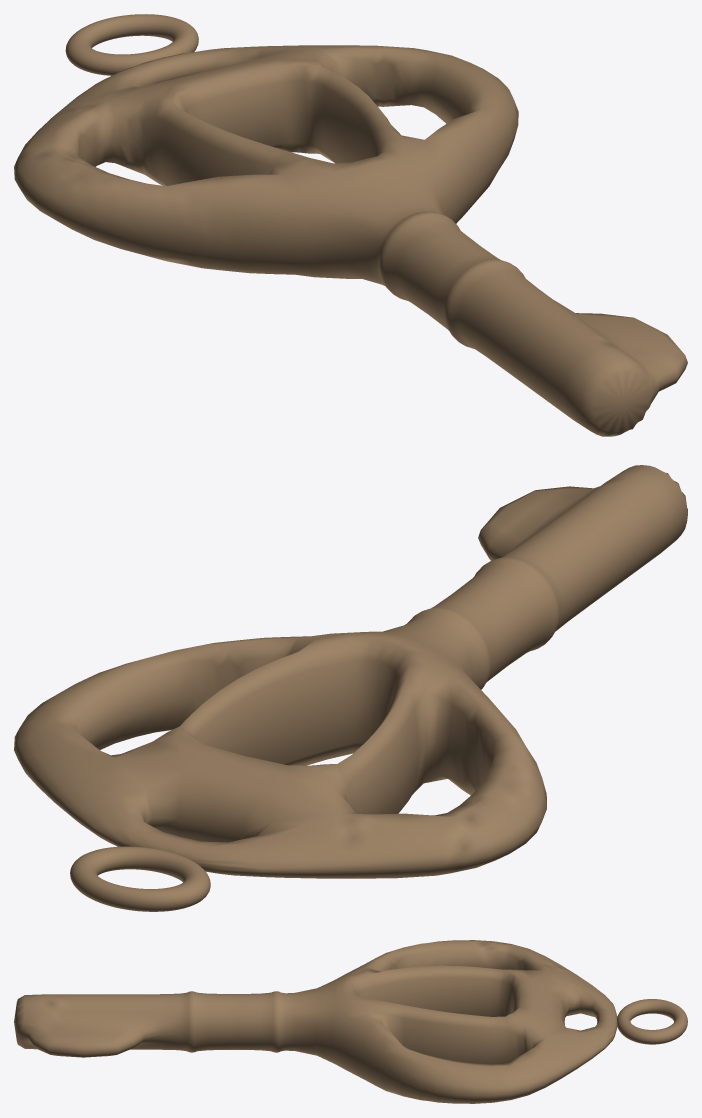
The model's file is Key.fbx.
3 renders of one model, top to bottom at view 1: azimuth 30°, elevation 25°; view 2: azimuth 150°, elevation 25°; view 3: azimuth 270°, elevation 25°, orthographic. The views are drawn at different scales.
Visible parts, largest first — view 1: Torus.002; view 2: Torus.002; view 3: Torus.002.
Boxes of the visible parts, box(x1,y1,x2,y2) form: Torus.002: box(14, 14, 687, 436); Torus.002: box(14, 465, 687, 911); Torus.002: box(14, 940, 687, 1103).
Size of the model in its own units: 52.18 by 11.84 by 100.
